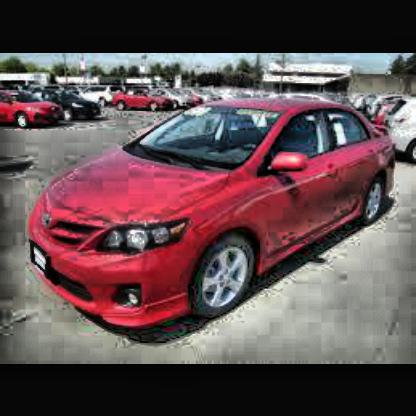Toyota Corolla Sedan 2012: (25, 98, 404, 343)
